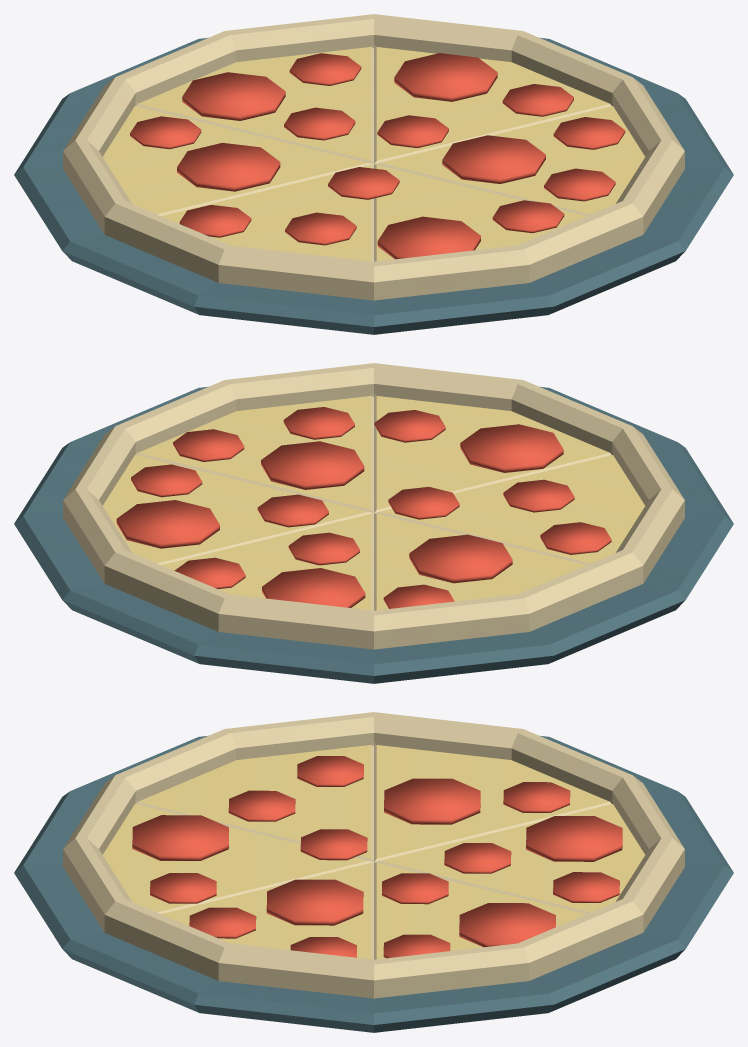
File: pizza-pepperoni-on-plate.glb
The picture shows the model from 3 angles, top to bottom: view 1: azimuth 30°, elevation 25°; view 2: azimuth 150°, elevation 25°; view 3: azimuth 270°, elevation 25°; orthographic projection.
Visible parts, largest first — view 1: PizzaPepperoniOnPlate.001; view 2: PizzaPepperoniOnPlate.001; view 3: PizzaPepperoniOnPlate.001.
Part boxes in pixels (<box>): PizzaPepperoniOnPlate.001: <box>14,14,733,334</box>; PizzaPepperoniOnPlate.001: <box>14,363,733,683</box>; PizzaPepperoniOnPlate.001: <box>14,712,733,1032</box>.
Bounding box in the file's own units: 0.6902 × 0.05 × 0.6902.
Materials: 1 (1 with a texture image).
